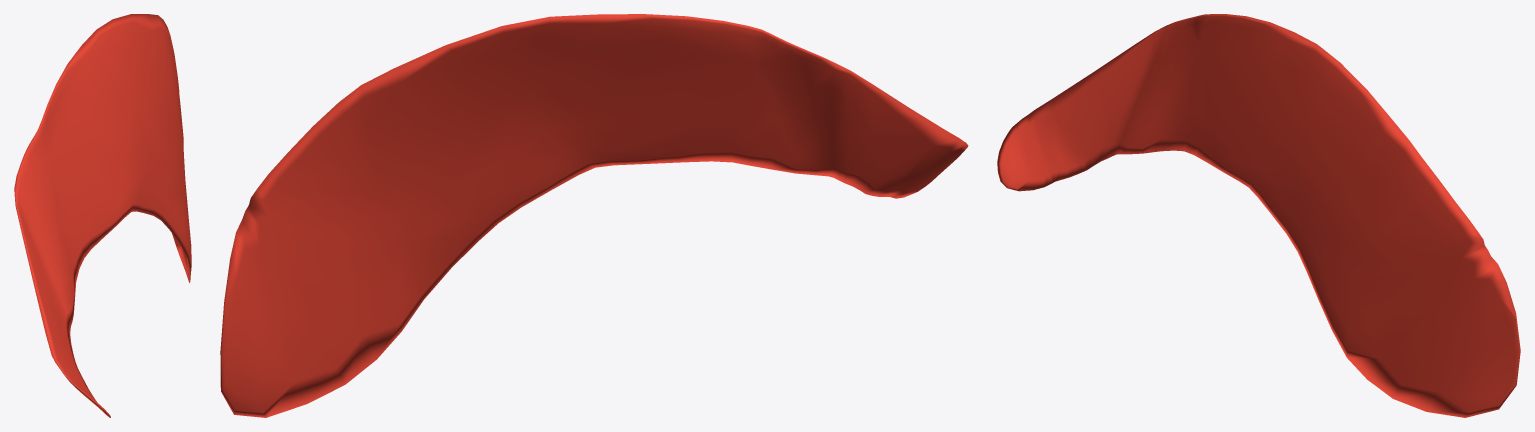
File: Gluteus_medius_muscle-Iliac_insertion.r_Generated_Mesh_From_X3D.glb
3 views of the same model, side by side, from view 1: azimuth 30°, elevation 25°; view 2: azimuth 150°, elevation 25°; view 3: azimuth 270°, elevation 25° (orthographic). The views are drawn at different scales.
Parts seen in each view (by area): view 1: Gluteus_medius_muscle-Iliac_insertion.r_Generated_Mesh_From_; view 2: Gluteus_medius_muscle-Iliac_insertion.r_Generated_Mesh_From_; view 3: Gluteus_medius_muscle-Iliac_insertion.r_Generated_Mesh_From_.
Part boxes in pixels (x1,y1,x2,y2): Gluteus_medius_muscle-Iliac_insertion.r_Generated_Mesh_From_: [14, 14, 191, 417]; Gluteus_medius_muscle-Iliac_insertion.r_Generated_Mesh_From_: [220, 14, 968, 417]; Gluteus_medius_muscle-Iliac_insertion.r_Generated_Mesh_From_: [997, 14, 1520, 417].
Size of the model in its own units: 0.0662 by 0.0552 by 0.0872.
